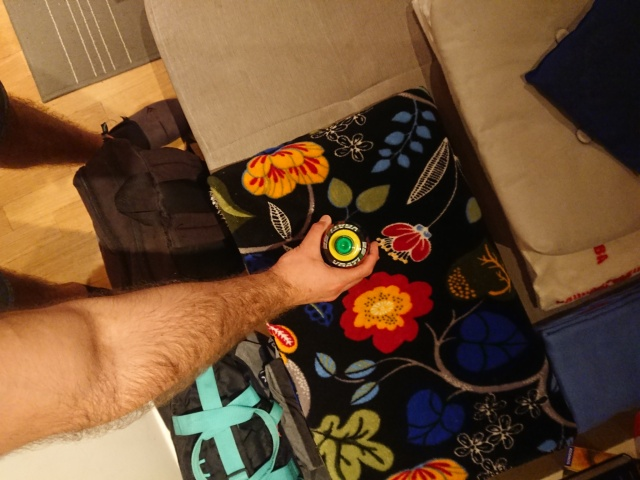Vindi Iso Sport Forest Strawberries 500mL: (318, 219, 371, 269)
